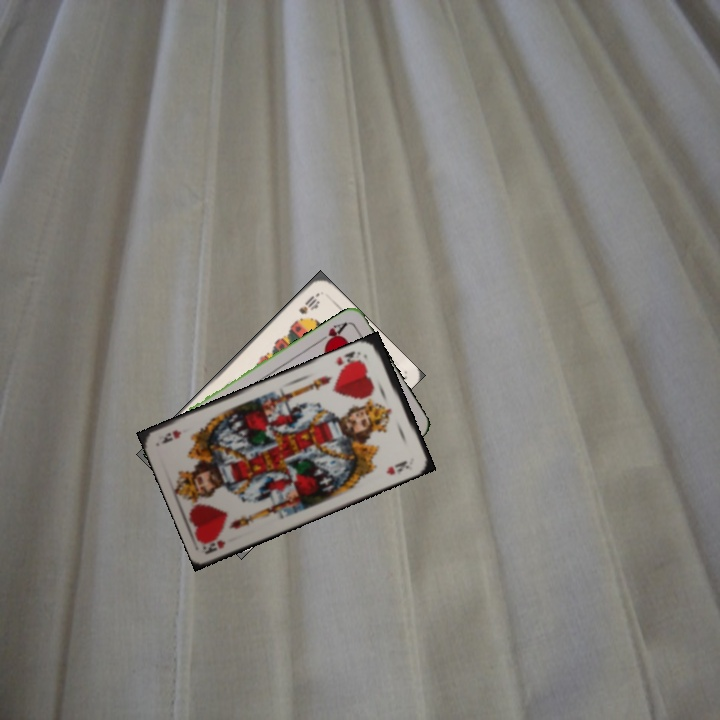HA: (314, 318, 350, 349)
HK: (332, 347, 364, 373), (201, 534, 228, 556)
S10: (295, 290, 321, 317)
